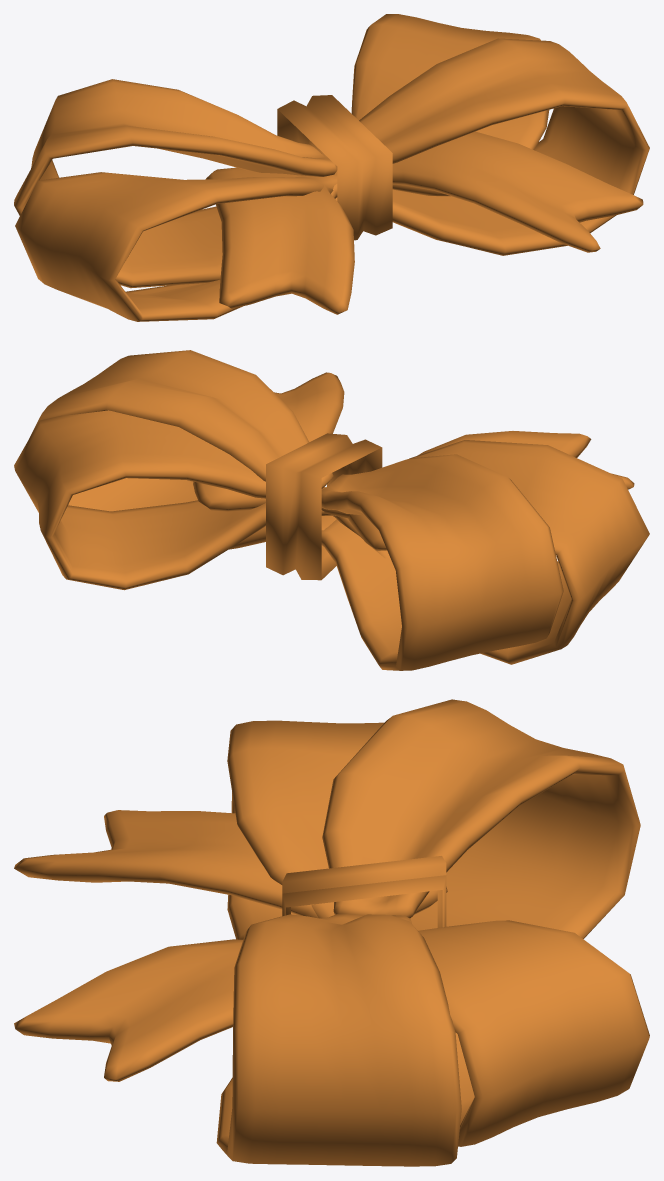
The model's file is ribon3.glb.
3 renders of one model, top to bottom at view 1: azimuth 30°, elevation 25°; view 2: azimuth 150°, elevation 25°; view 3: azimuth 270°, elevation 25°, orthographic. The views are drawn at different scales.
Visible parts, largest first — view 1: Ribbon.004, Ribbon.006, Ribbon.005, Ribbon.007, Ribbon.003, Ribbon; view 2: Ribbon.005, Ribbon.003, Ribbon.004, Ribbon.007, Ribbon, Ribbon.006; view 3: Ribbon.004, Ribbon.005, Ribbon.003, Ribbon.006, Ribbon.007, Ribbon.
Boxes of the visible parts, bbox=[...] form: Ribbon.004: bbox=[335, 38, 649, 255]; Ribbon.006: bbox=[205, 131, 643, 314]; Ribbon.005: bbox=[14, 79, 337, 288]; Ribbon.007: bbox=[15, 171, 337, 321]; Ribbon.003: bbox=[336, 14, 549, 196]; Ribbon: bbox=[277, 95, 392, 240]; Ribbon.005: bbox=[321, 454, 563, 670]; Ribbon.003: bbox=[14, 410, 332, 590]; Ribbon.004: bbox=[29, 350, 336, 549]; Ribbon.007: bbox=[321, 440, 649, 664]; Ribbon: bbox=[266, 433, 382, 580]; Ribbon.006: bbox=[193, 372, 634, 550]; Ribbon.004: bbox=[216, 914, 461, 1166]; Ribbon.005: bbox=[322, 699, 640, 938]; Ribbon.003: bbox=[418, 920, 649, 1146]; Ribbon.006: bbox=[14, 810, 447, 1081]; Ribbon.007: bbox=[227, 720, 383, 939]; Ribbon: bbox=[282, 856, 446, 927].
Size of the model in its own units: 1.92 by 0.5857 by 1.47.
